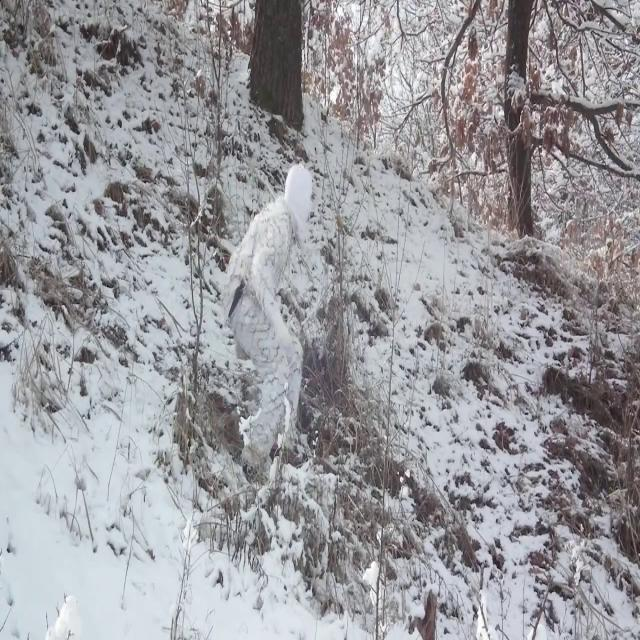Camouflage: (225, 164, 320, 488)
